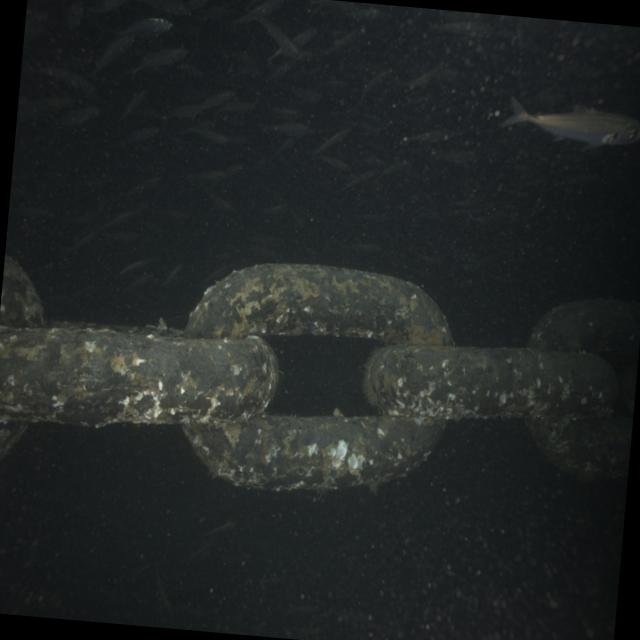ChainLink: (0, 326, 278, 426), (185, 263, 452, 346), (184, 414, 444, 490), (364, 345, 618, 420), (529, 299, 640, 361), (527, 417, 632, 479), (0, 254, 44, 327), (0, 420, 27, 459)
